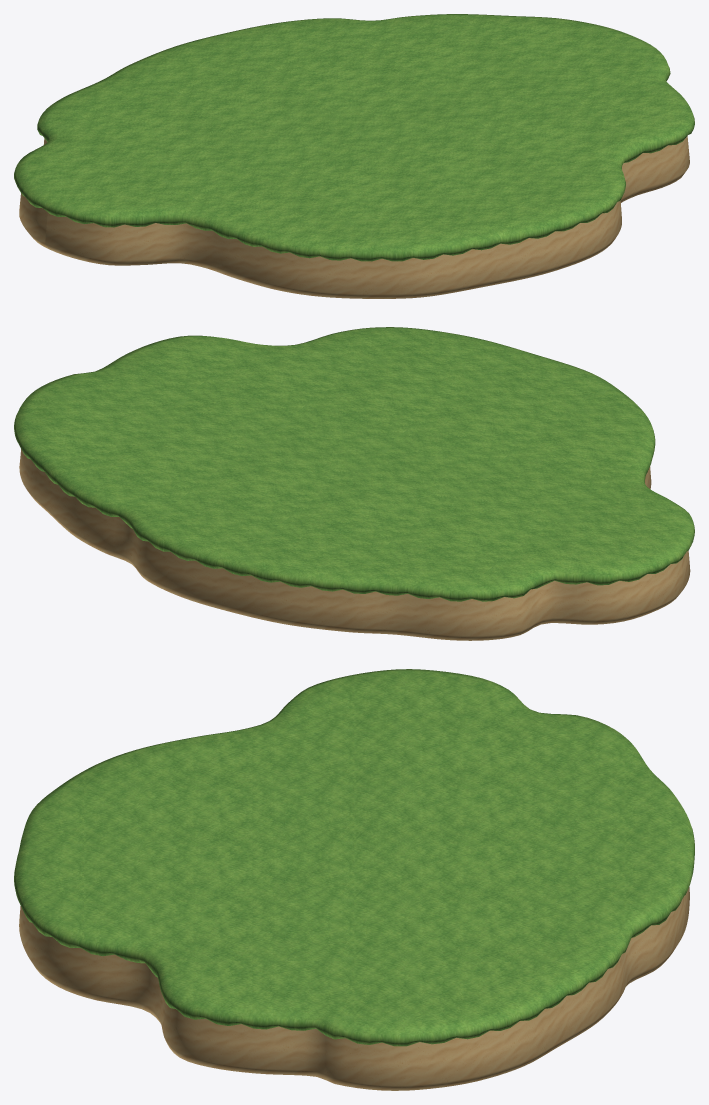
Rendered from grass-land-mass-warm-sand-v5.glb.
The picture shows the model from 3 angles, top to bottom: view 1: azimuth 30°, elevation 25°; view 2: azimuth 150°, elevation 25°; view 3: azimuth 270°, elevation 25°; orthographic projection. The views are drawn at different scales.
Visible parts, largest first — view 1: Grass_Land_Mass; view 2: Grass_Land_Mass; view 3: Grass_Land_Mass.
Boxes of the visible parts, x1,y1,x2,y2 form: Grass_Land_Mass: (14,14,694,298); Grass_Land_Mass: (14,327,694,640); Grass_Land_Mass: (14,669,694,1090).
Size of what is drawn, in the model's own units: 32.25 by 2.89 by 25.2.
2 materials, 2 textured.
